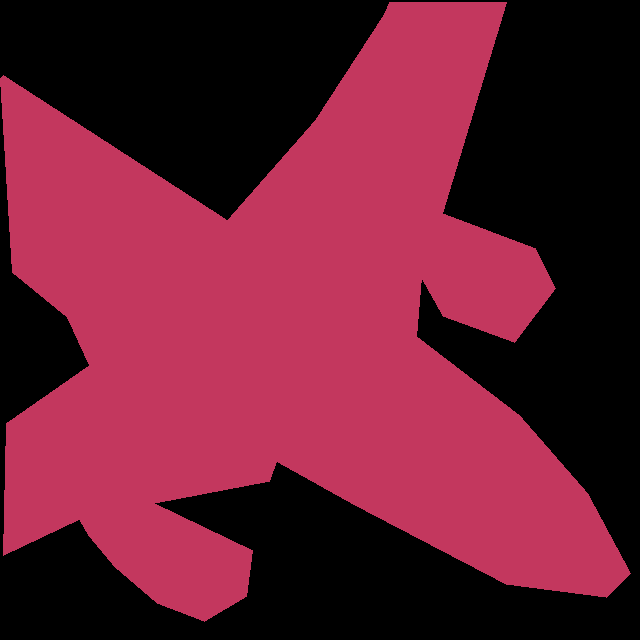Airplane: (0, 2, 630, 621)
